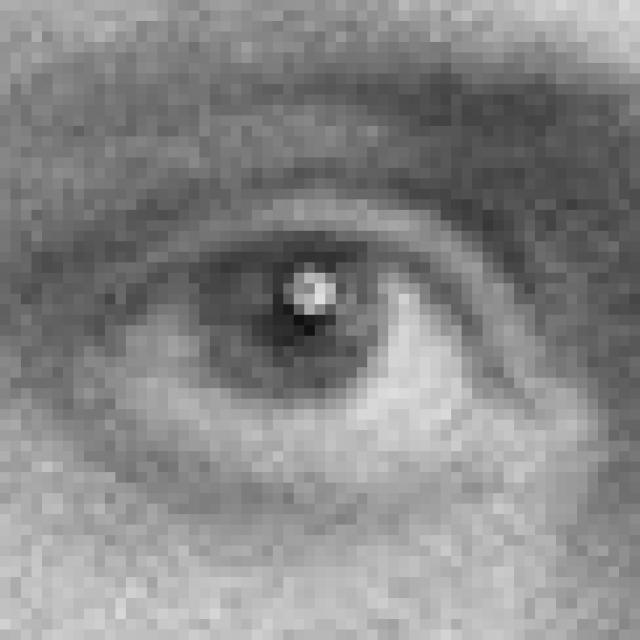eye: (30, 167, 627, 534)
